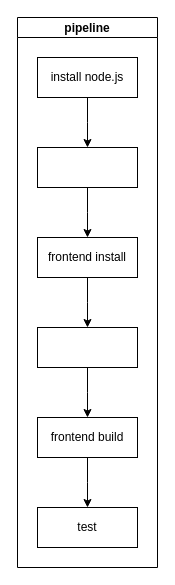
Some shapes in this 175 by 585 pixel diagram are drawn without their labels. Here are the shapes that lost their labels. From the top down, the centre of each, then its label:
point (87, 167): backend install
point (87, 347): backend build
